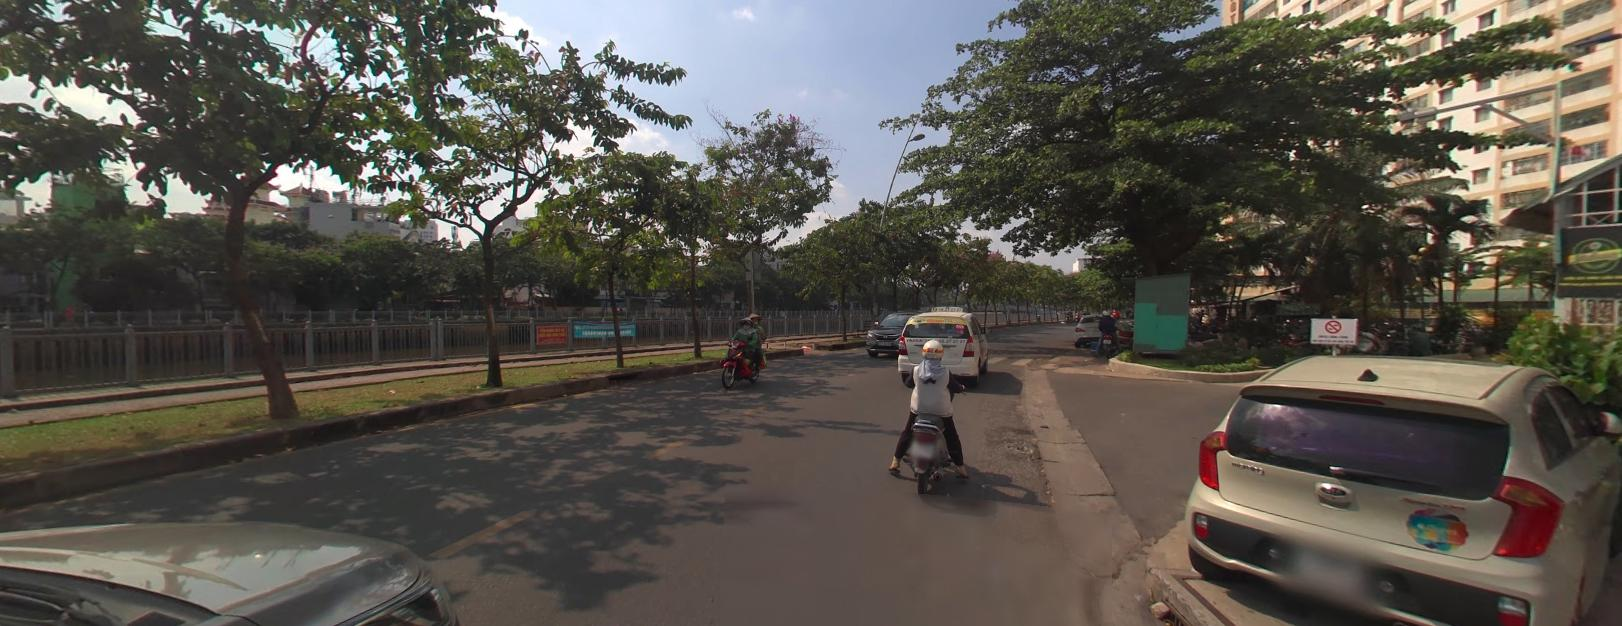Cam con lai: (1325, 319, 1341, 332)
